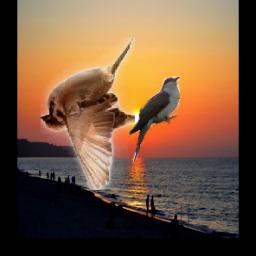Cuckoo: (128, 76, 180, 163)
Sparrow: (42, 38, 136, 190)
